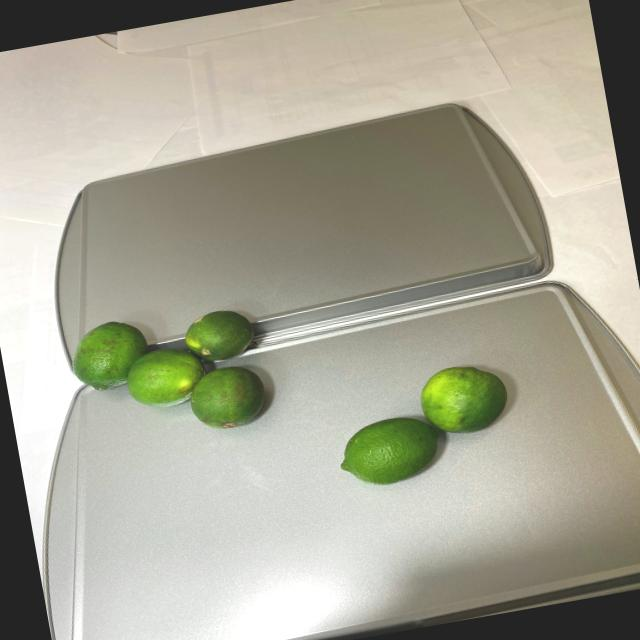lemon: (61, 292, 274, 456), (318, 355, 528, 503)
